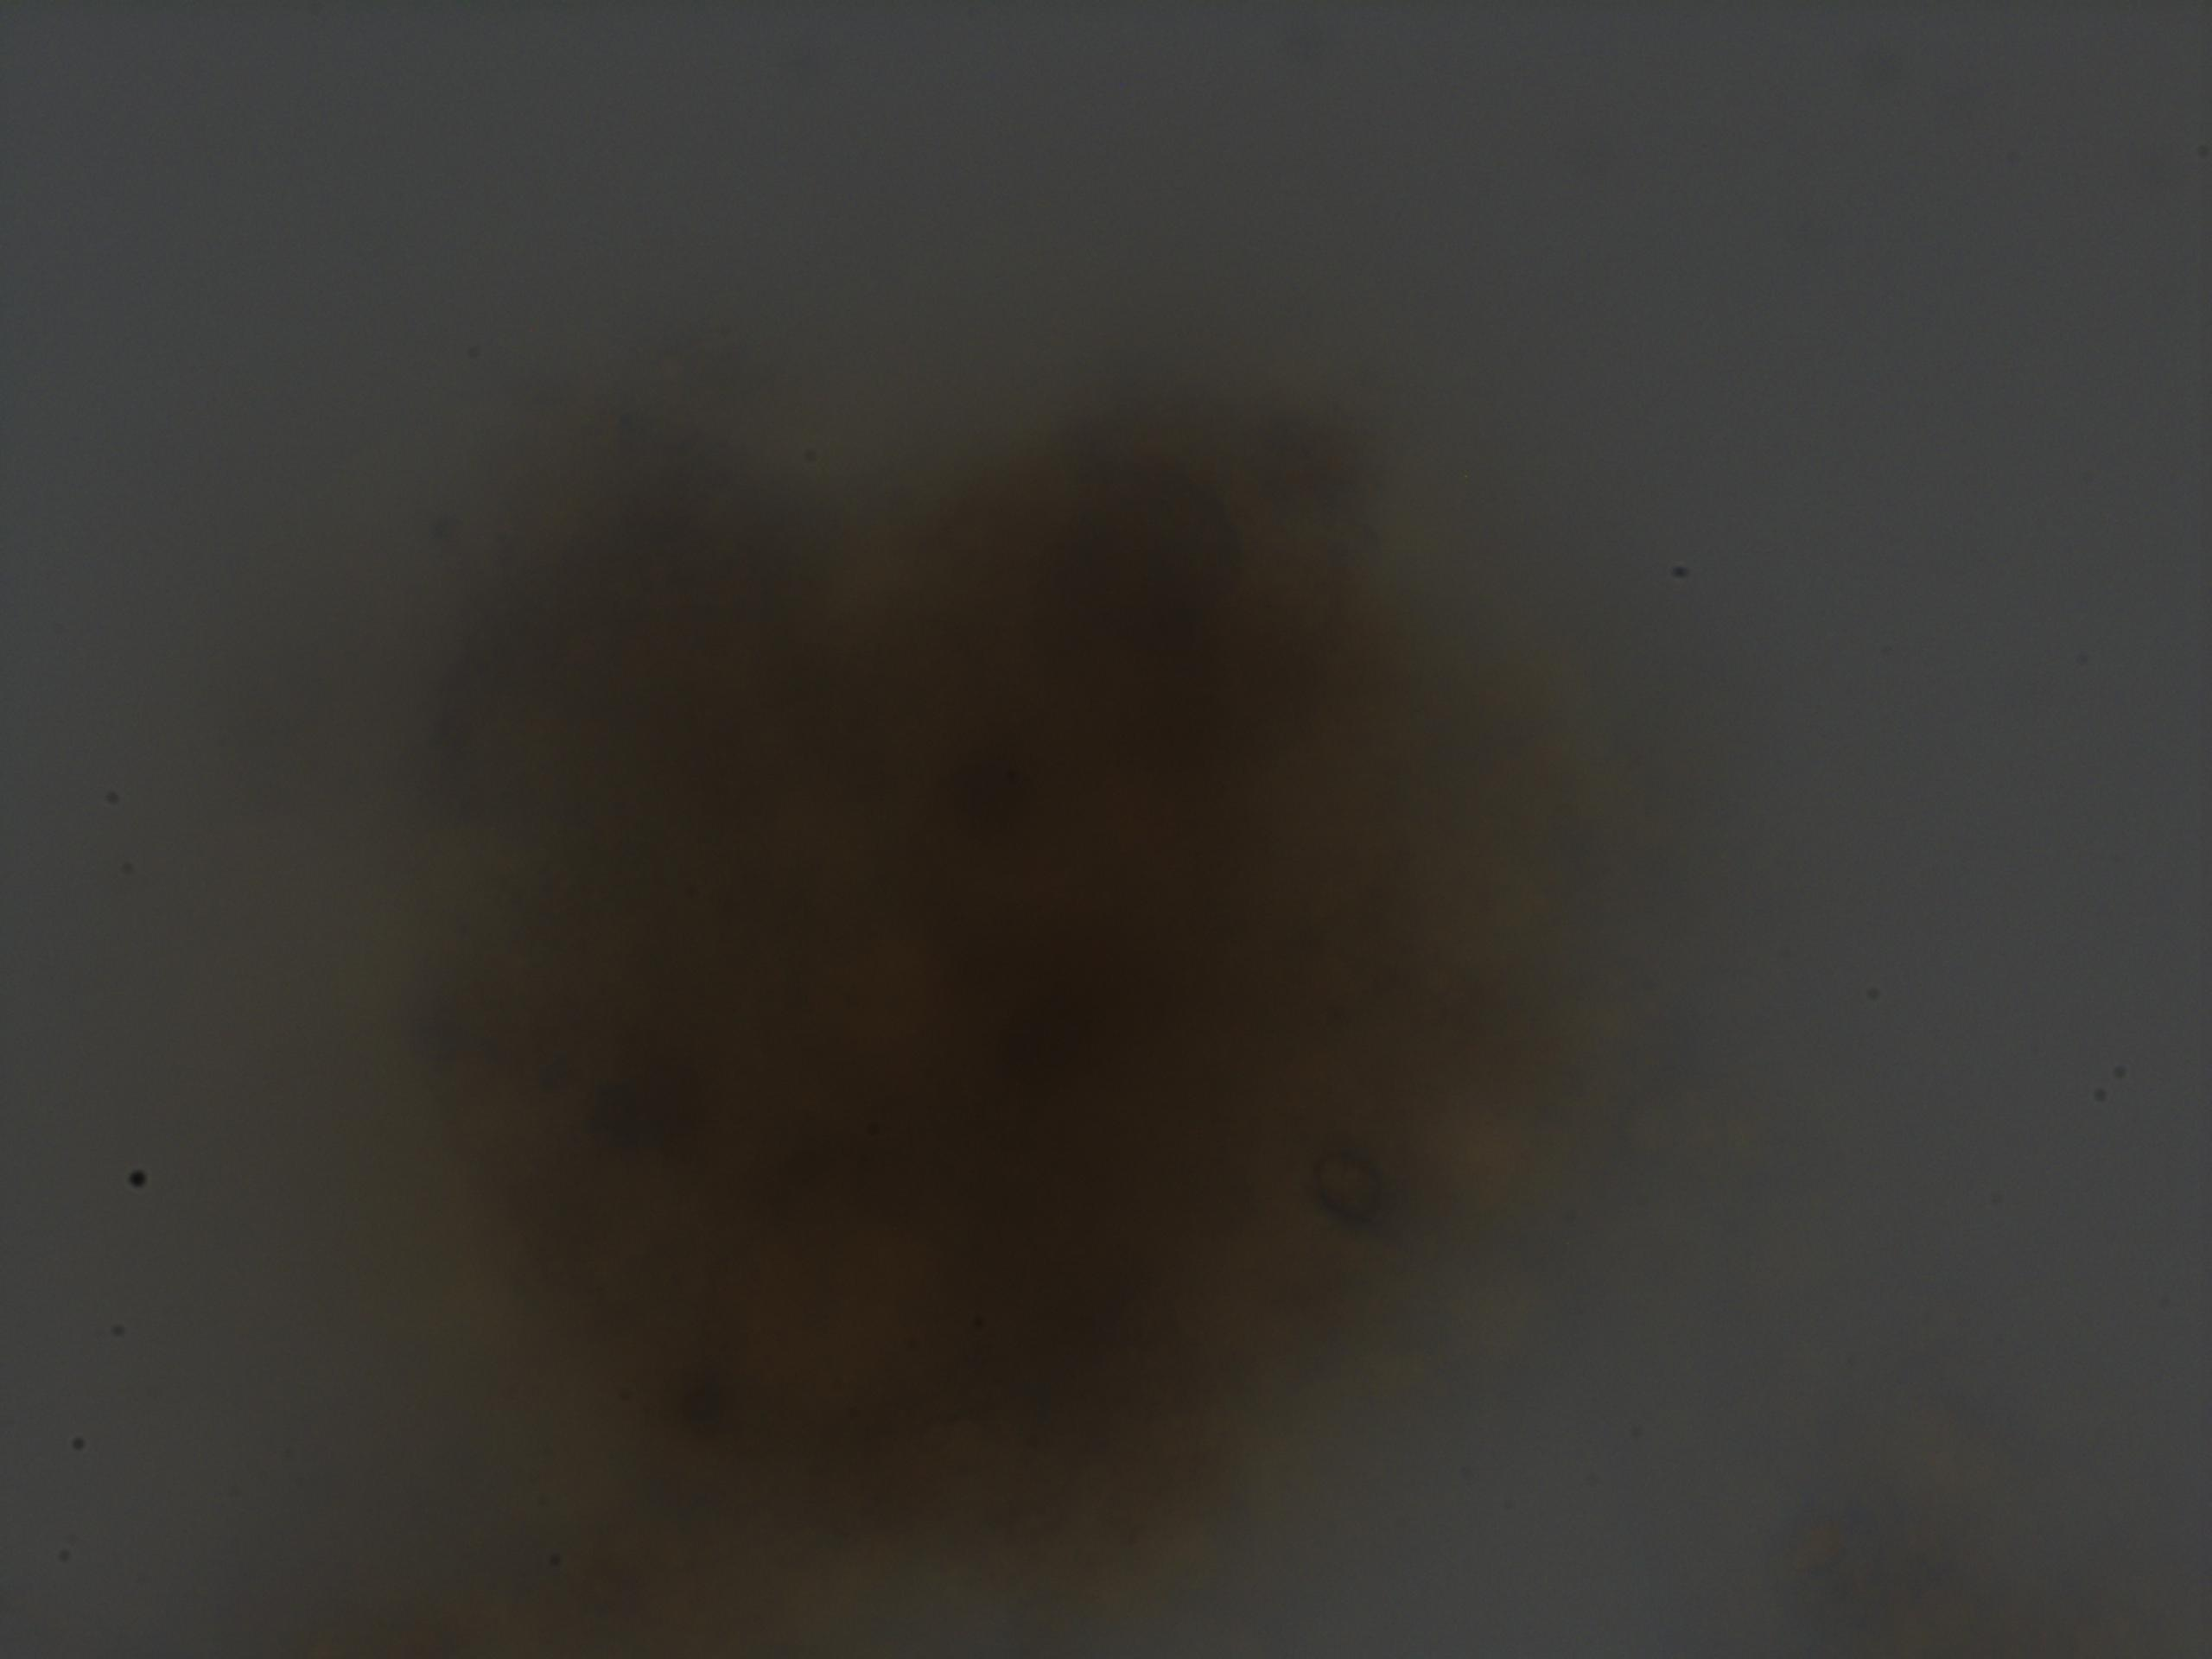spherical_floc: (413, 340, 1585, 1656)
